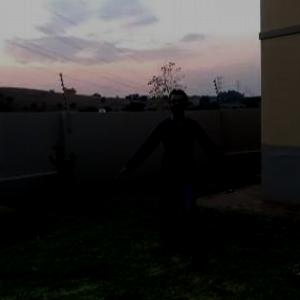land: (131, 98, 224, 228)
